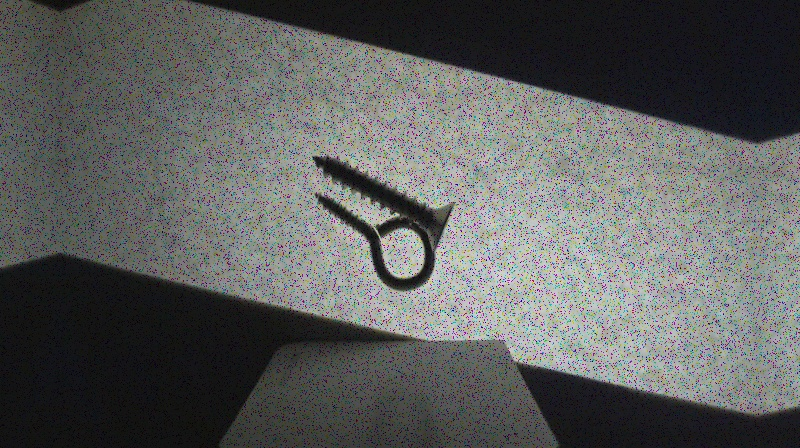O001: (310, 190, 438, 291)
S001: (306, 151, 456, 246)
